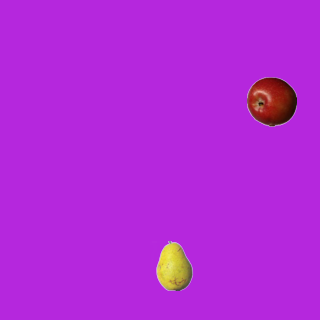Apple Braeburn: (246, 76, 296, 126)
Pear Monster: (149, 240, 199, 290)
